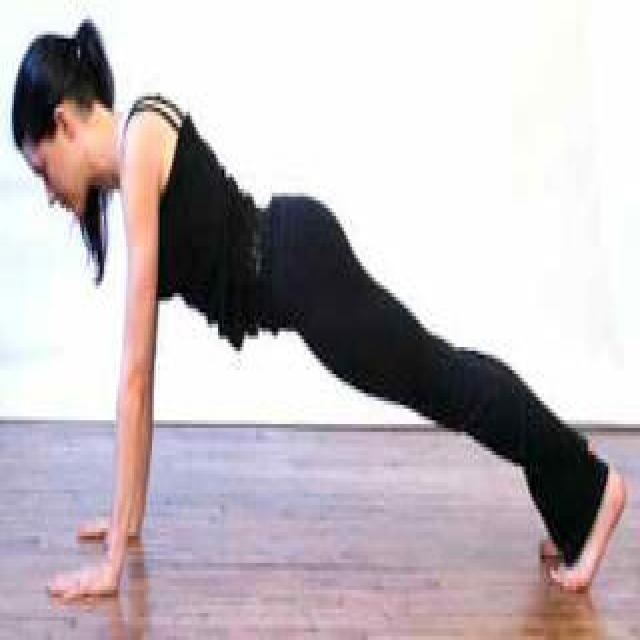yoga-pose plank: (6, 21, 624, 602)
